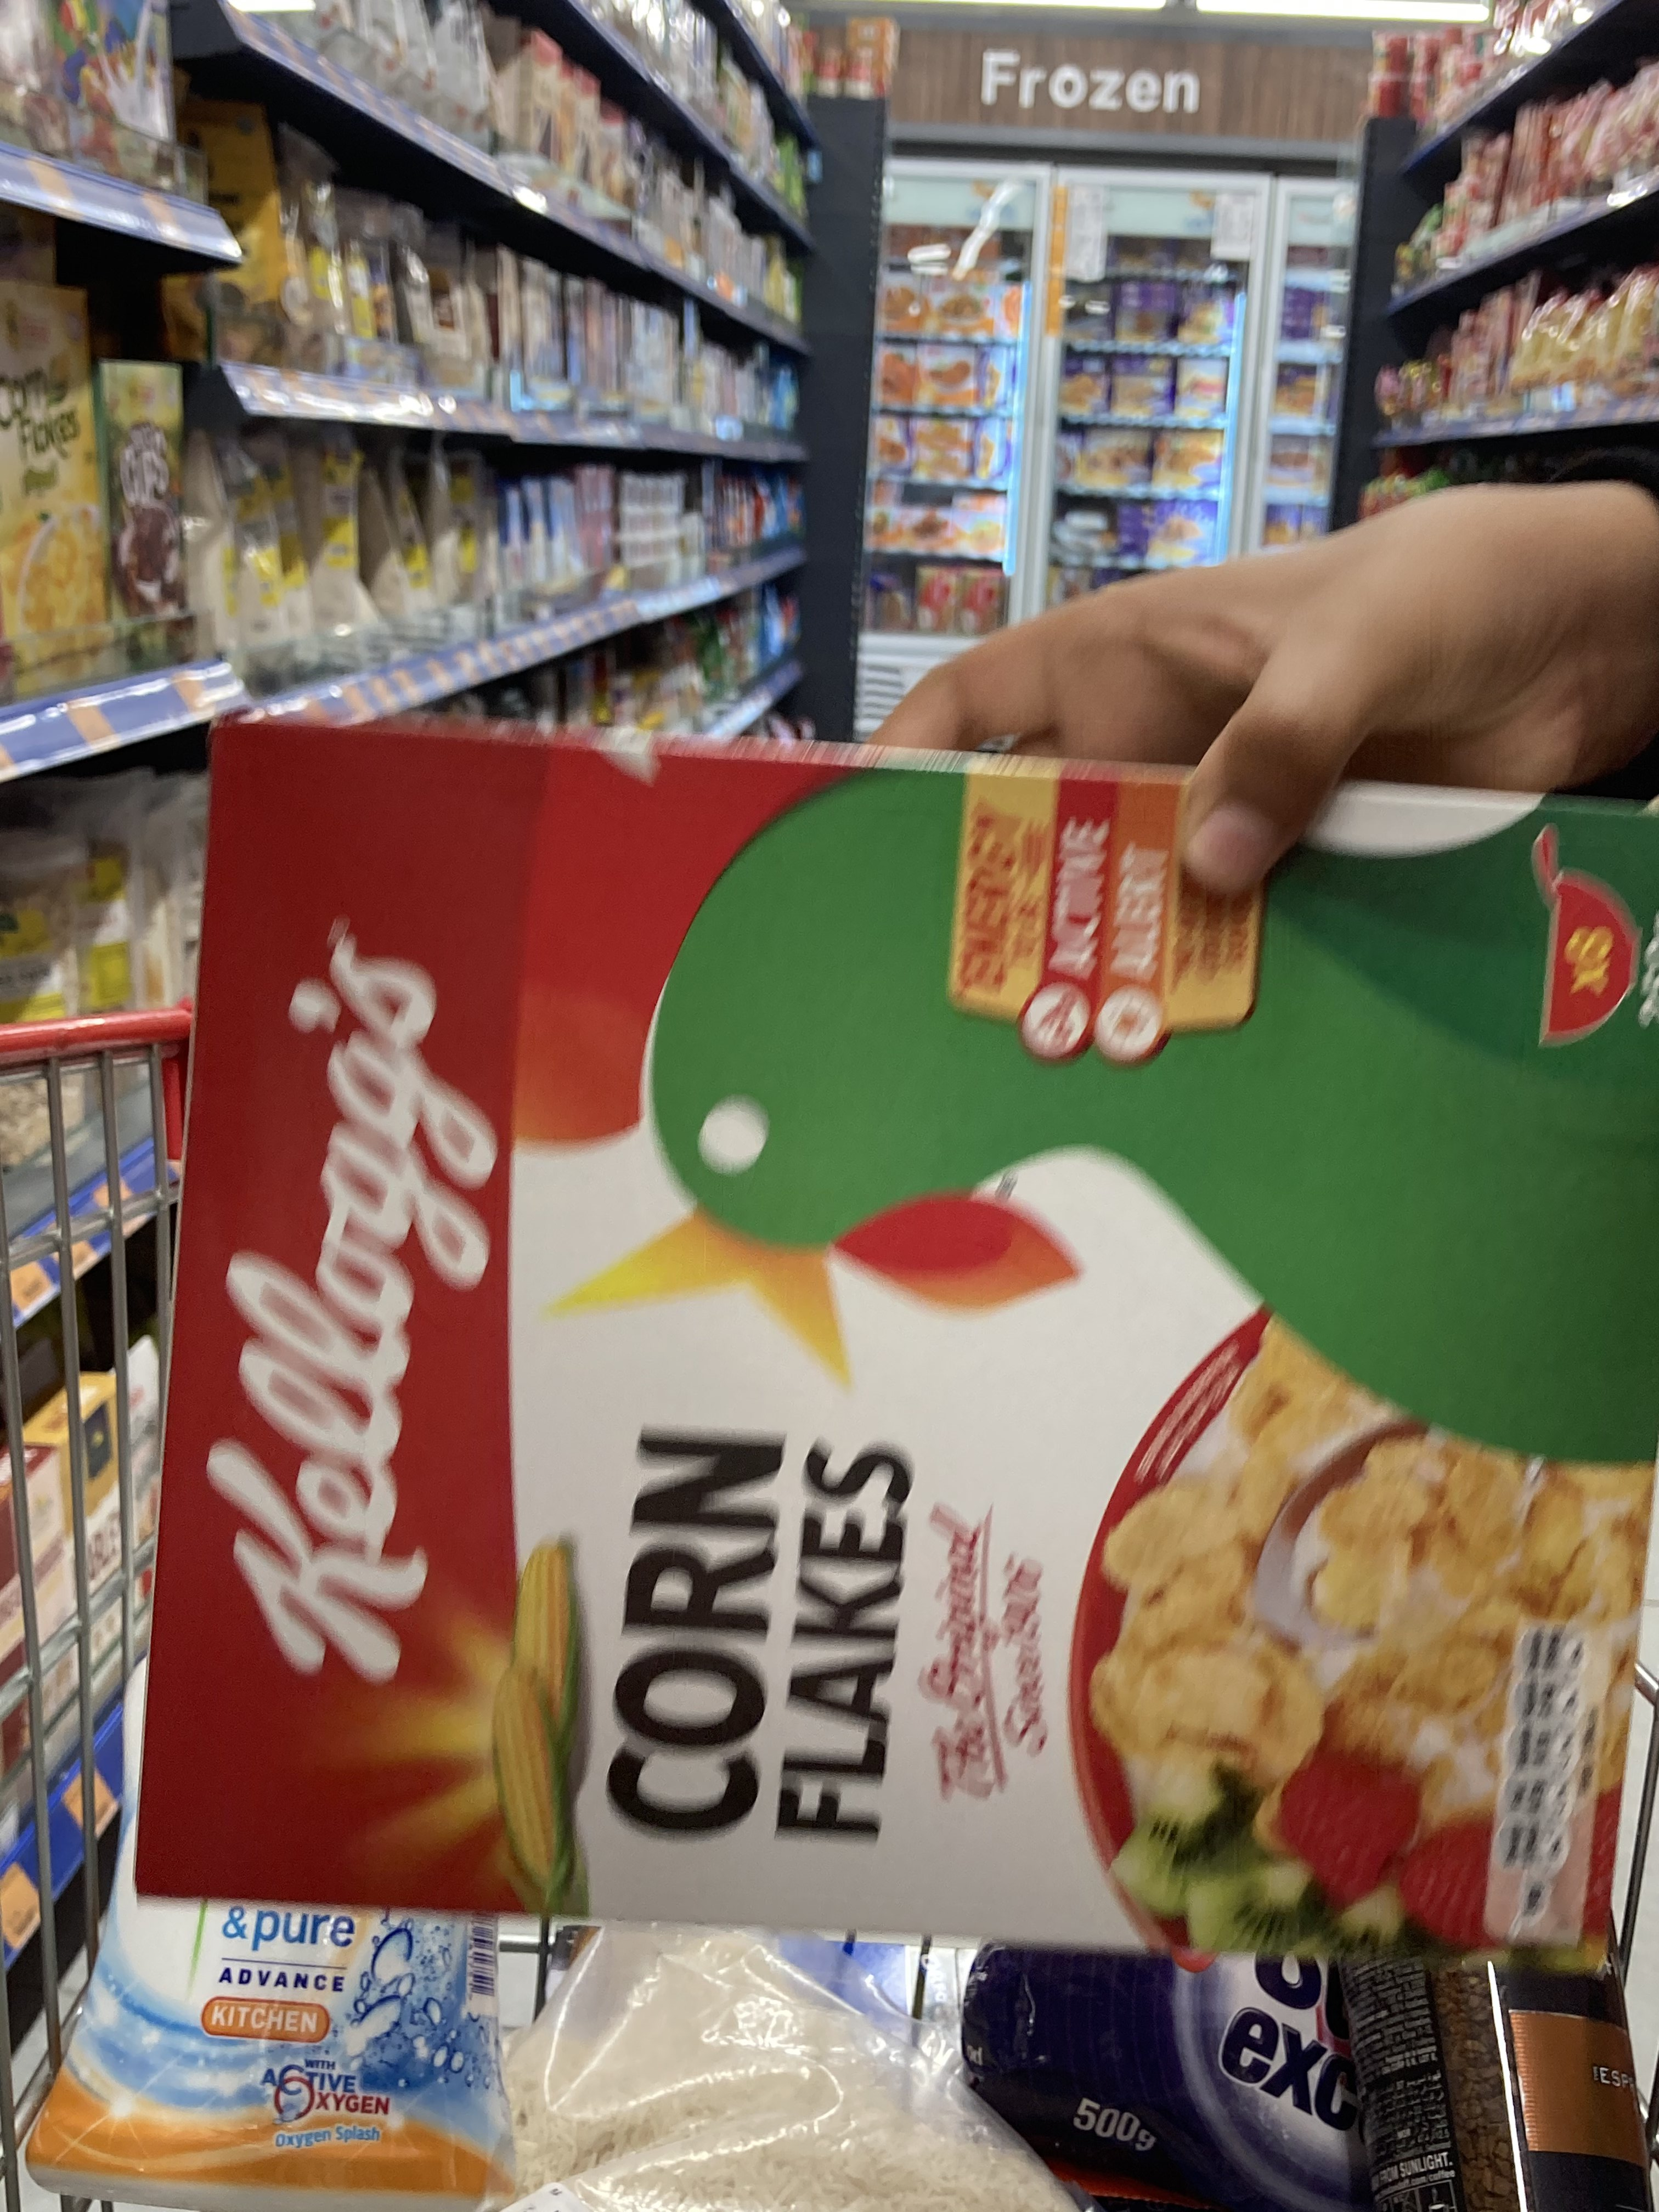Kellogg's Corn Flakes: (134, 702, 1659, 1956)
